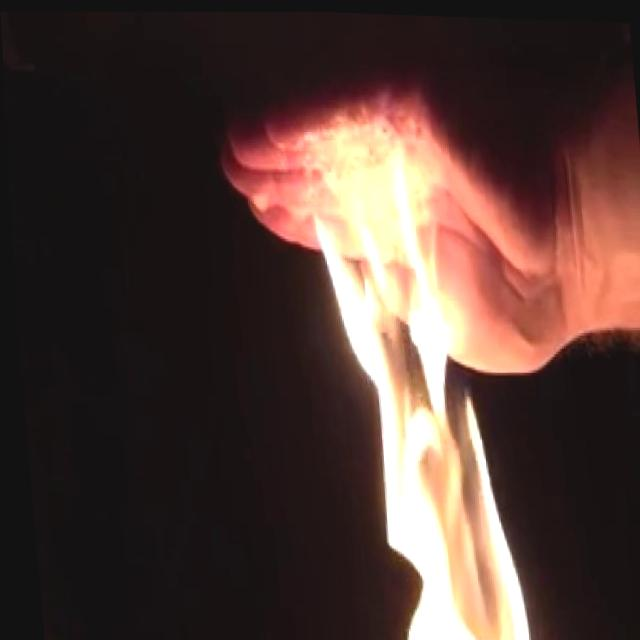Fire: (302, 131, 526, 640)
